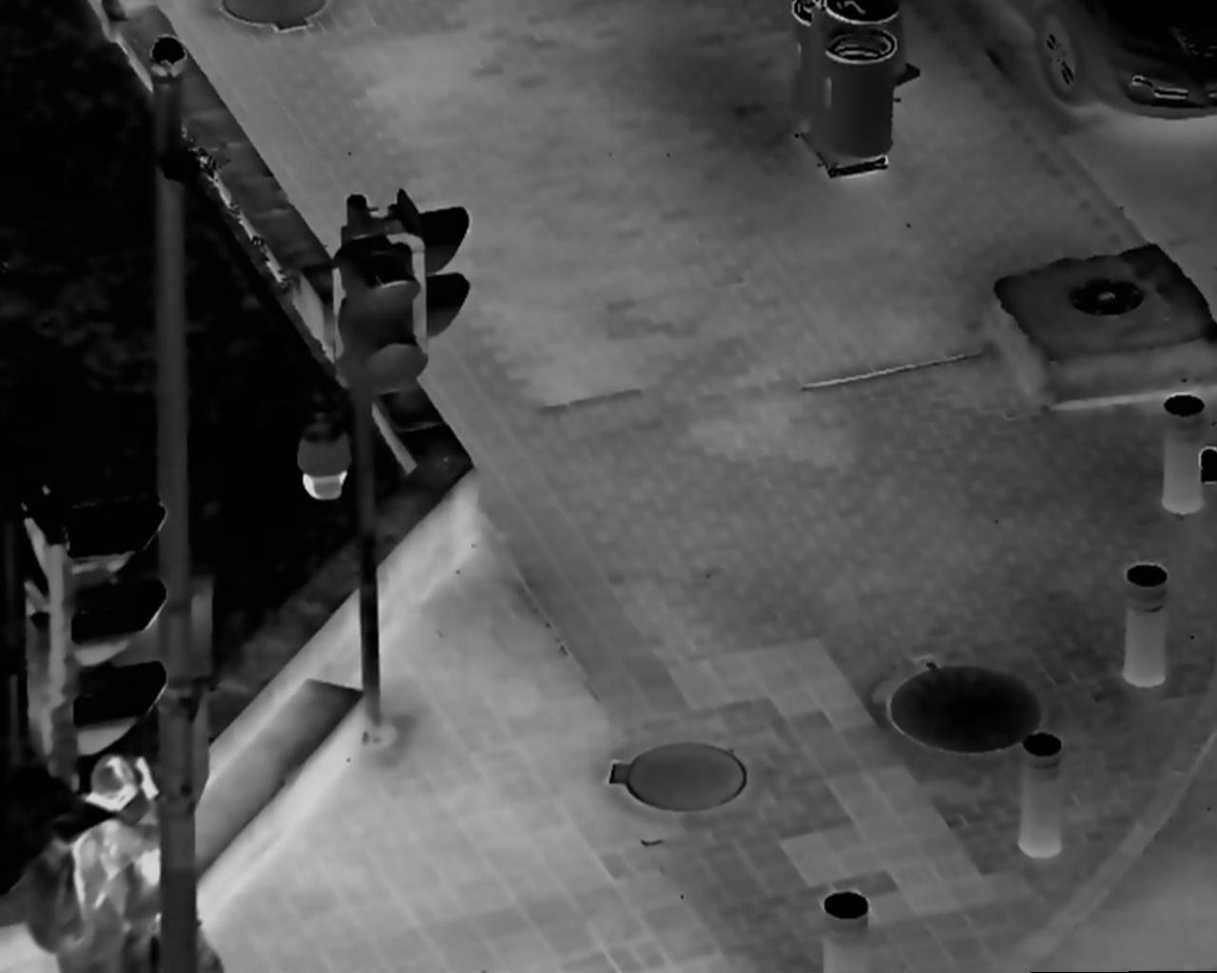person: (30, 755, 168, 973)
